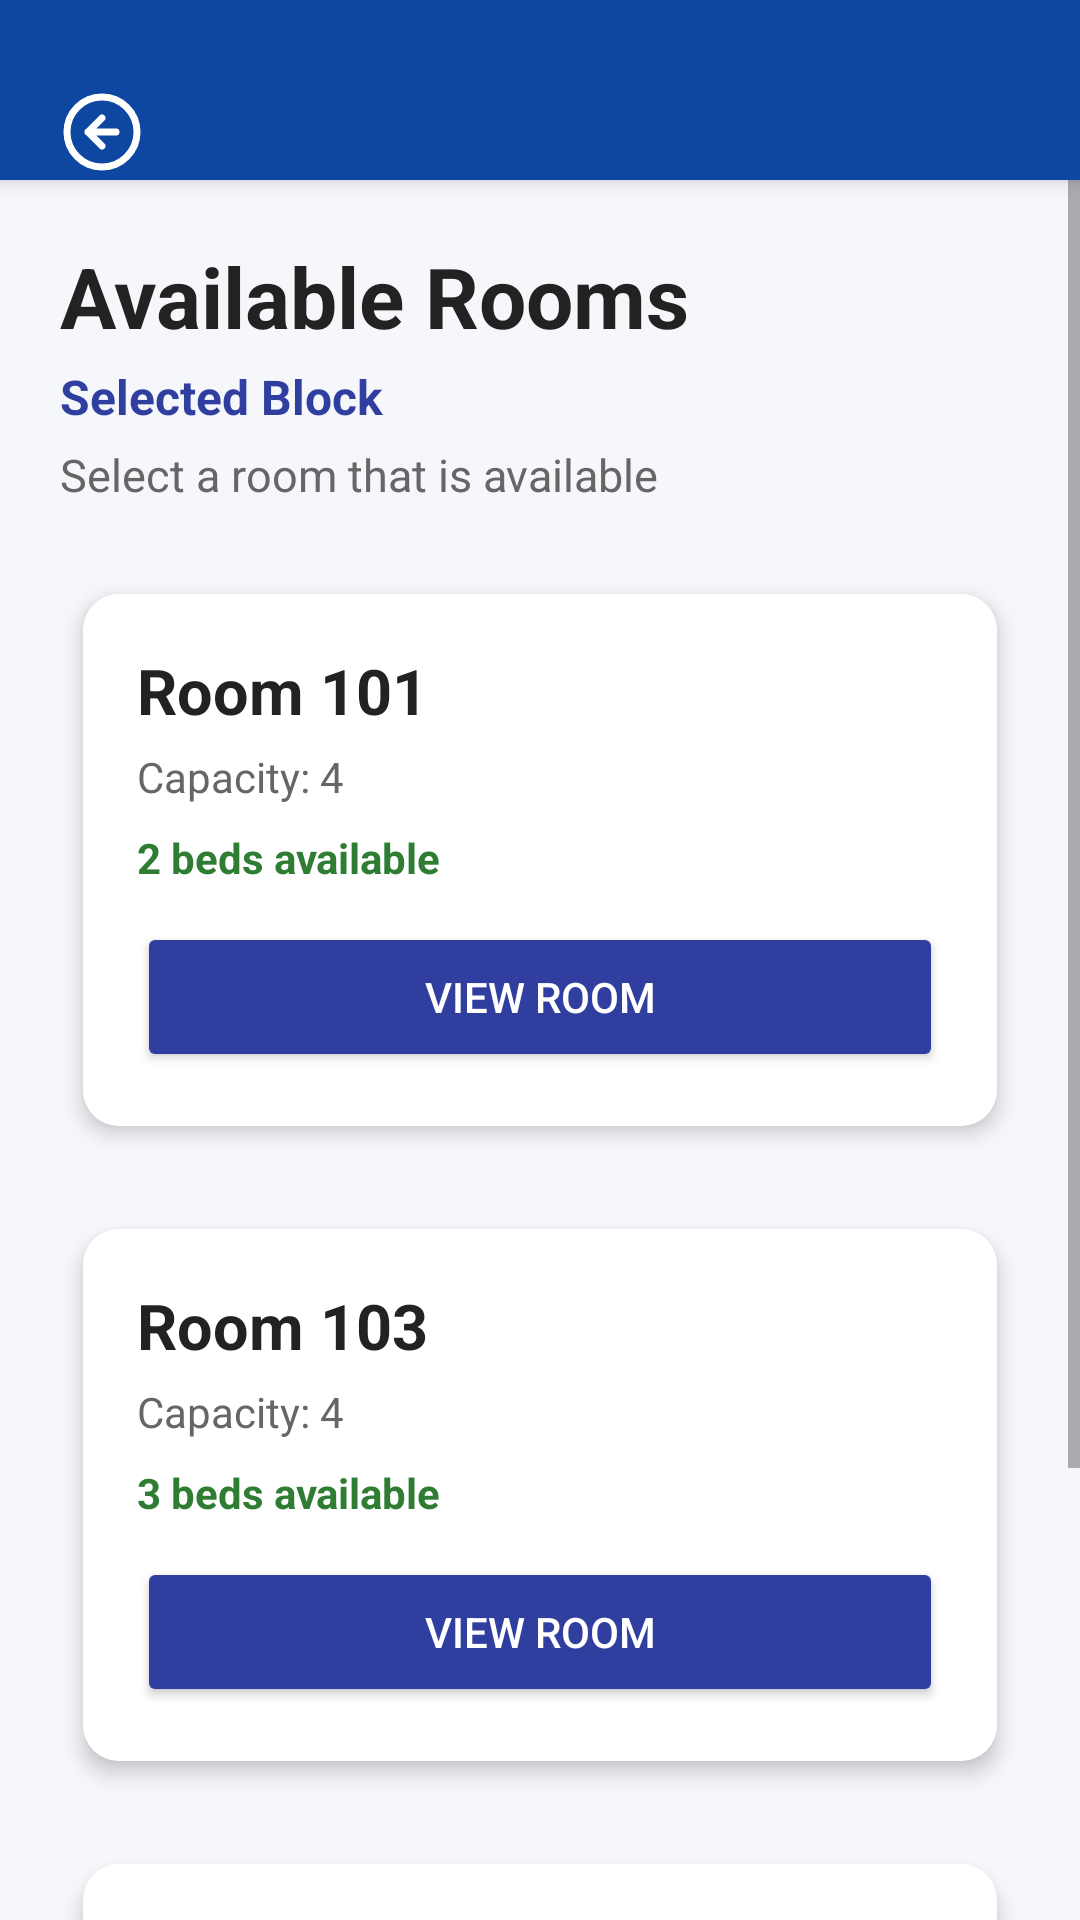

Screen size 1080x1920. Icon name, then its center in pixels as [x,y]:
Back: [102,132]
